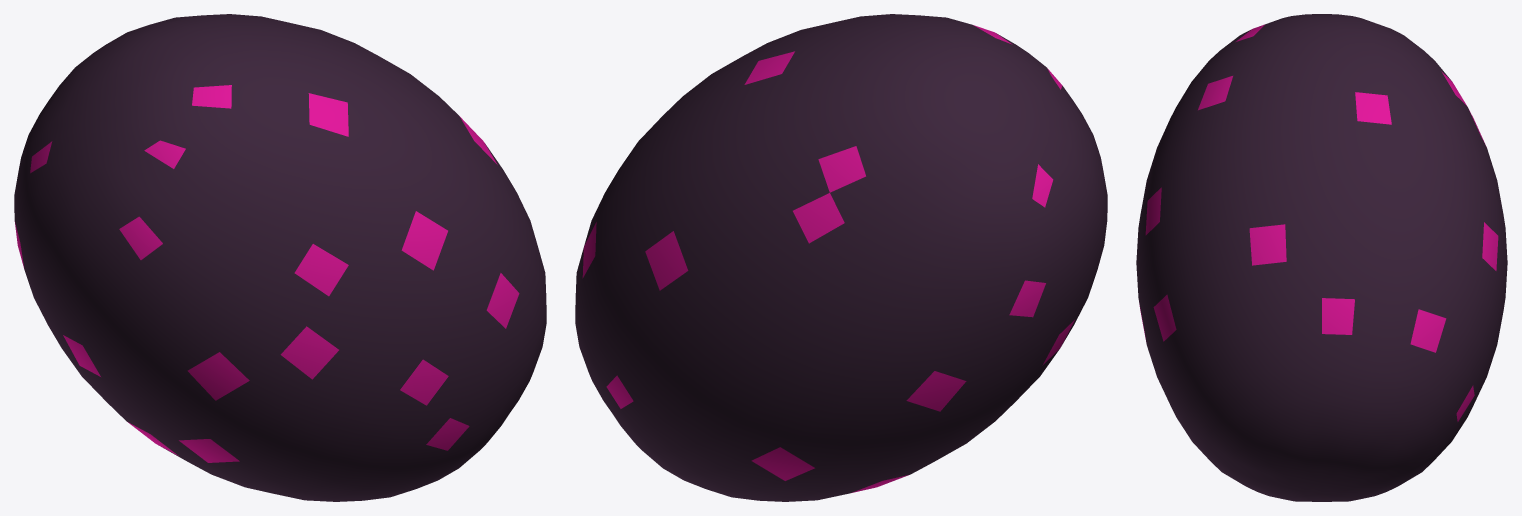
Rendered from OvoDeDragao.fbx.
3 views of the same model, side by side, from view 1: azimuth 30°, elevation 25°; view 2: azimuth 150°, elevation 25°; view 3: azimuth 270°, elevation 25° (orthographic). The views are drawn at different scales.
Parts seen in each view (by area): view 1: Ovo de Dragao; view 2: Ovo de Dragao; view 3: Ovo de Dragao.
Part boxes in pixels (x1,y1,x2,y2): Ovo de Dragao: (14, 14, 546, 501); Ovo de Dragao: (575, 14, 1107, 501); Ovo de Dragao: (1136, 14, 1507, 501).
Size of the model in its own units: 167 by 160 by 135.
